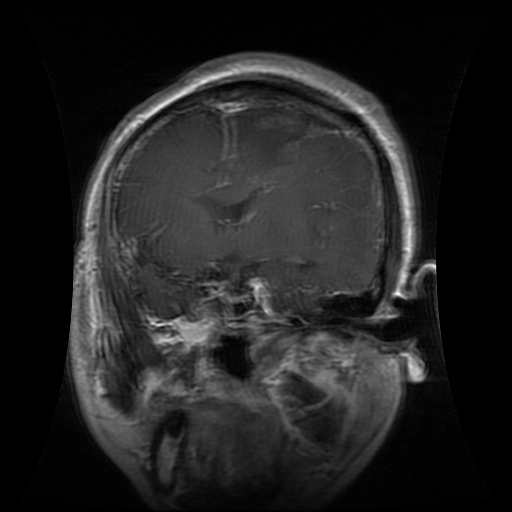glioma: (231, 106, 315, 181)
